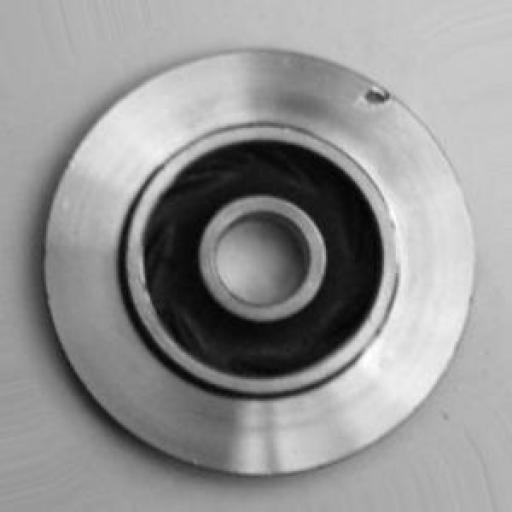defect: (336, 44, 415, 139)
